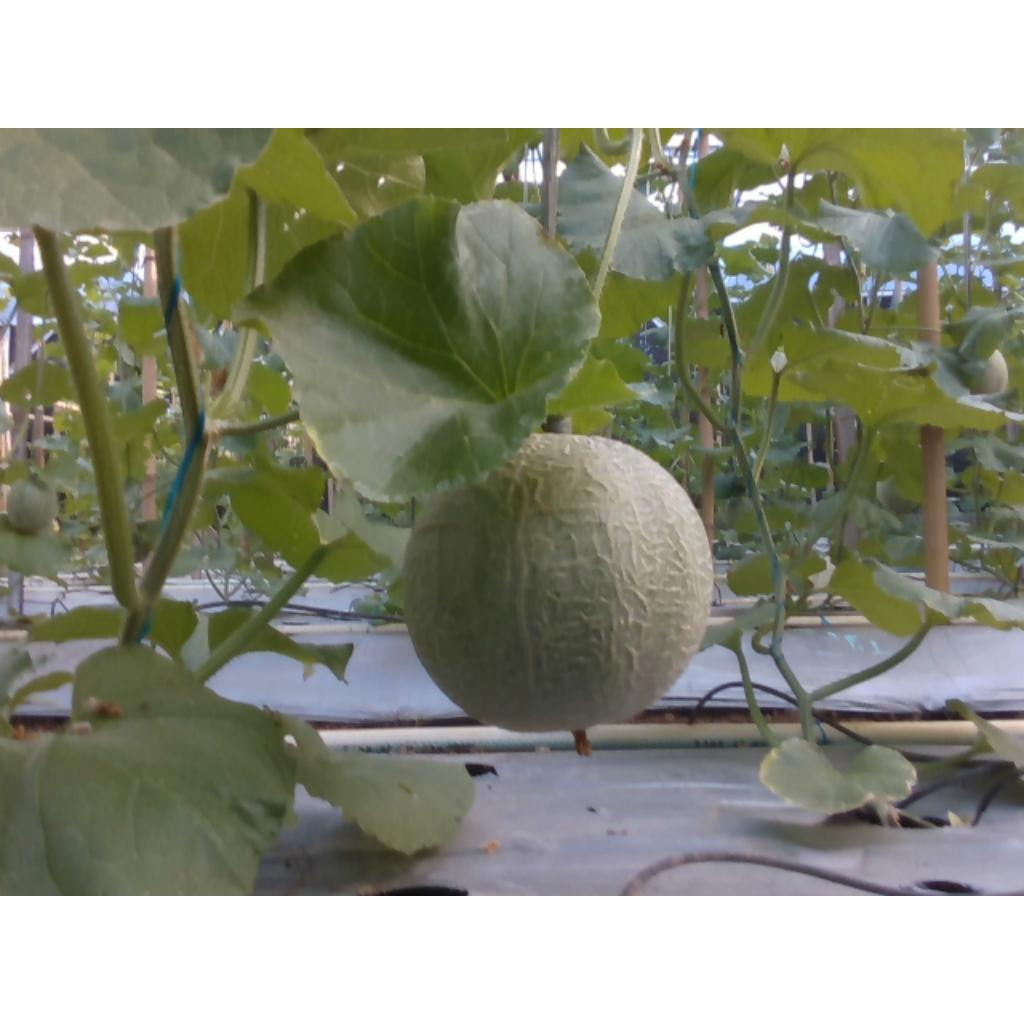melon: (406, 434, 712, 731)
